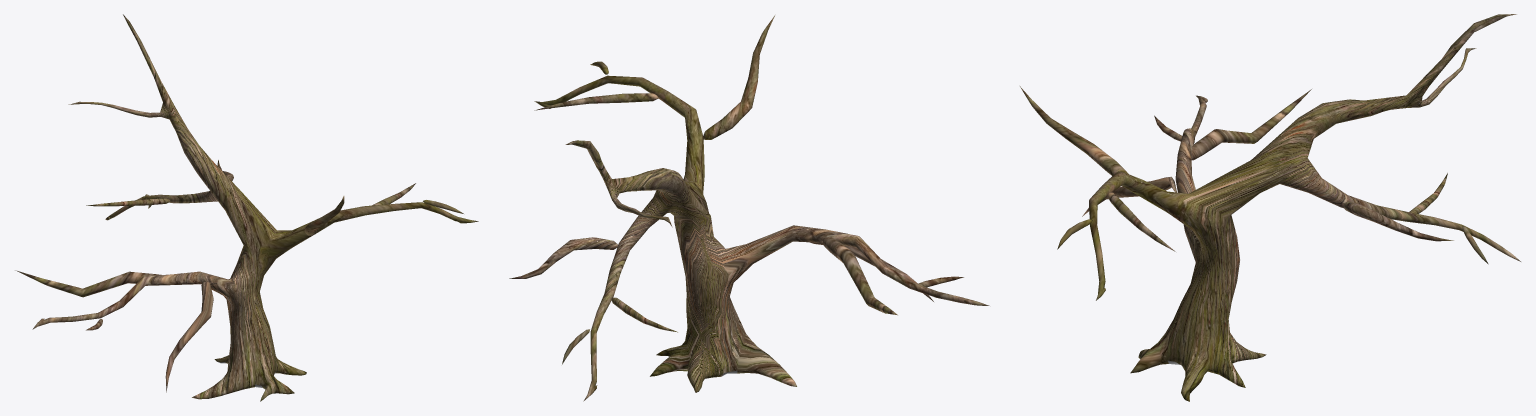
The model's file is trunk2.fbx.
The picture shows the model from 3 angles, left to right: view 1: azimuth 30°, elevation 25°; view 2: azimuth 150°, elevation 25°; view 3: azimuth 270°, elevation 25°; orthographic projection. The views are drawn at different scales.
Visible parts, largest first — view 1: Line01; view 2: Line01; view 3: Line01.
Boxes of the visible parts, left/top/right/bottom form: Line01: left=15, top=14, right=478, bottom=401; Line01: left=509, top=15, right=989, bottom=401; Line01: left=1020, top=14, right=1520, bottom=401.
Size of the model in its own units: 40.46 by 26.32 by 33.88.
